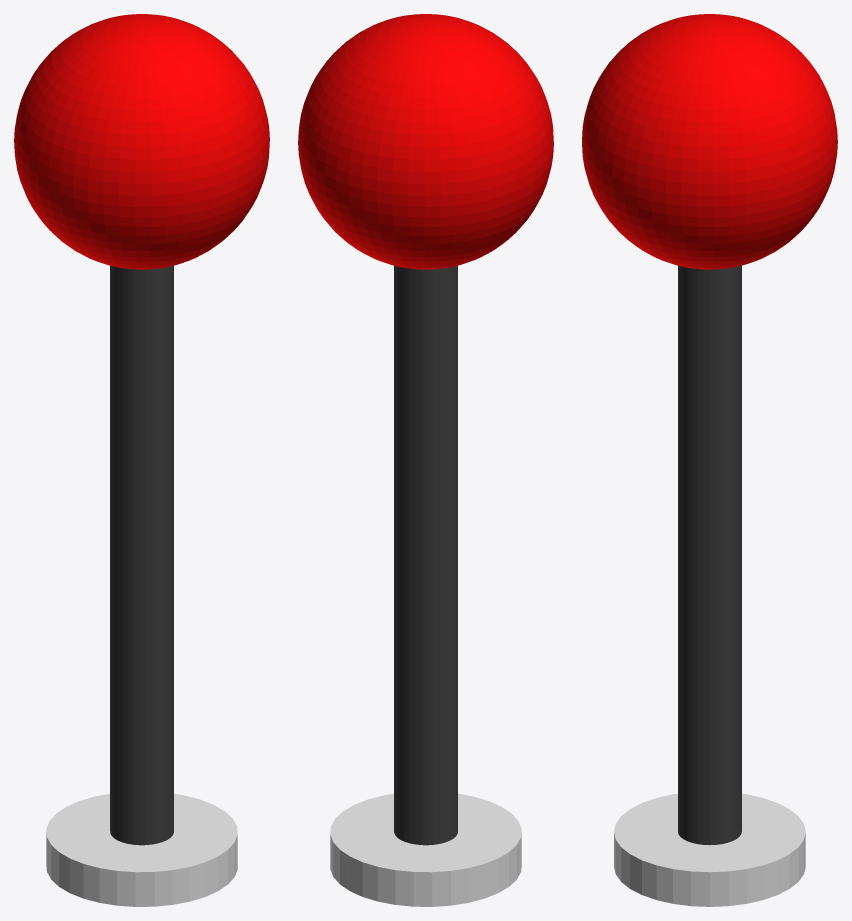
Rendered from ball.dae.
3 renders of one model, left to right at view 1: azimuth 30°, elevation 25°; view 2: azimuth 150°, elevation 25°; view 3: azimuth 270°, elevation 25°, orthographic.
Parts seen in each view (by area): view 1: Sphere; view 2: Sphere; view 3: Sphere.
Boxes of the visible parts, <box> form: Sphere: <box>14,14,269,906</box>; Sphere: <box>298,14,553,906</box>; Sphere: <box>582,14,837,906</box>.
Size of the model in its own units: 0.4 by 0.4 by 1.45.
